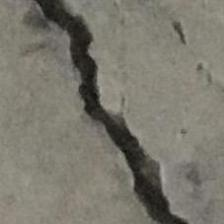Crack: (0, 0, 197, 224)
